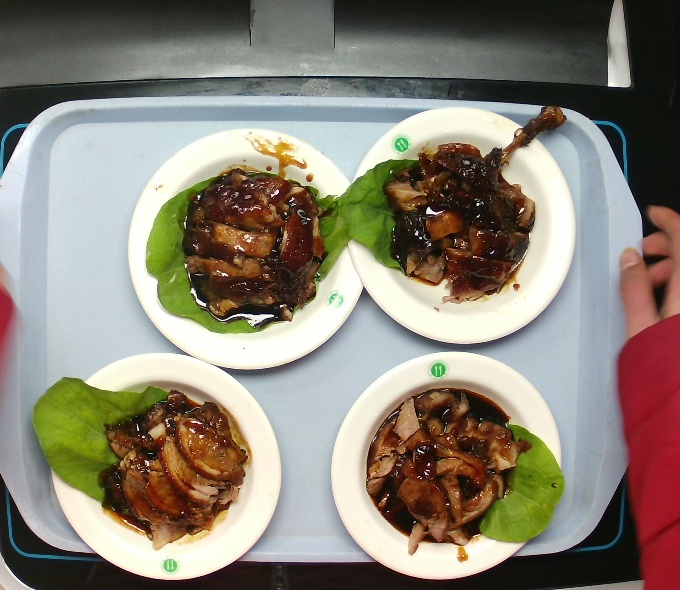wcq-MiZhiYa: (40, 370, 259, 553), (147, 145, 354, 336), (350, 131, 557, 306), (367, 374, 551, 563)
